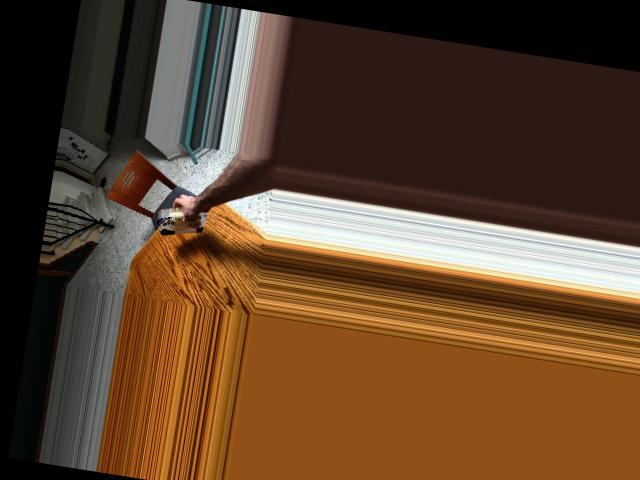cheese: (156, 202, 208, 241)
